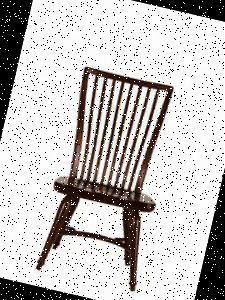Silla: (30, 59, 185, 295)
